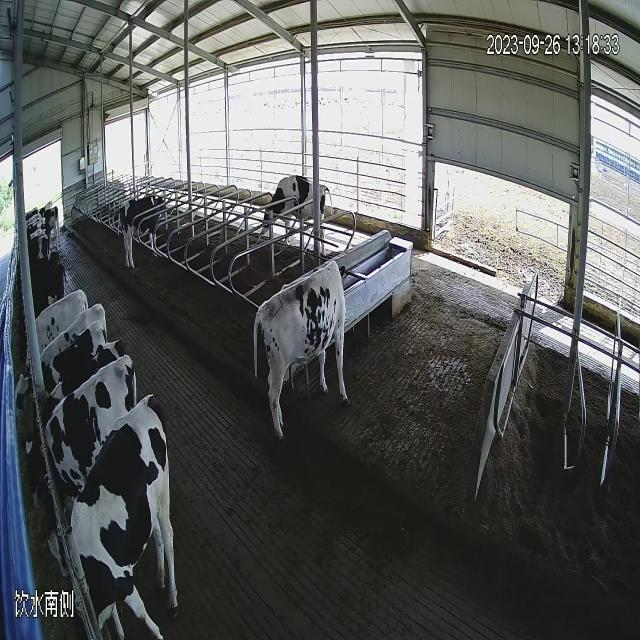standing: (64, 383, 195, 640), (38, 355, 142, 598), (248, 254, 358, 452), (22, 335, 128, 506), (11, 295, 110, 437), (260, 170, 334, 258), (109, 185, 174, 280)
